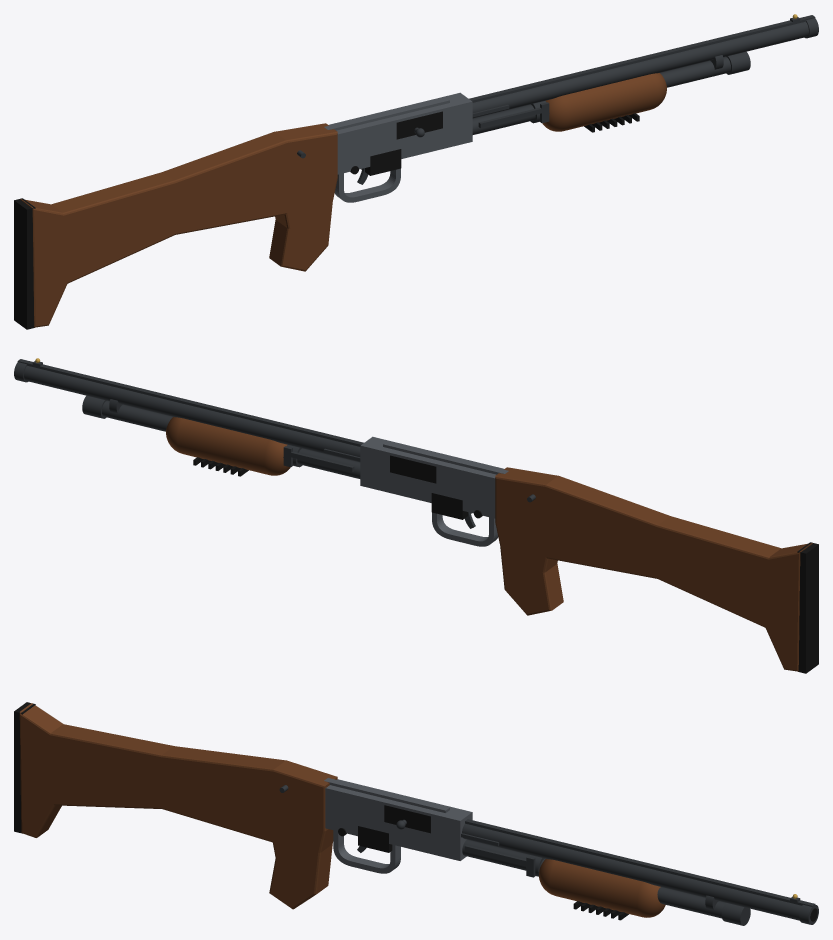
Rendered from fusil-a-pompe.glb.
3 views of the same model, one above another, from view 1: azimuth 30°, elevation 25°; view 2: azimuth 150°, elevation 25°; view 3: azimuth 330°, elevation 25° (orthographic).
Parts seen in each view (by area): view 1: crosse, boitier, canon, garde_main, plaque_de_couche, plaque_rib, tube_magasin, pontet, rail_boitier, fenetre_ejection, fenetre_chargement; view 2: crosse, boitier, canon, garde_main, plaque_de_couche, plaque_rib, tube_magasin, pontet, rail_boitier, fenetre_ejection, fenetre_chargement; view 3: crosse, boitier, canon, garde_main, plaque_rib, tube_magasin, pontet, plaque_de_couche, rail_boitier, fenetre_ejection, fenetre_chargement, bouchon_magasin (+1 smaller).
Part boxes in pixels (left/top/right/bottom): crosse: left=20, top=123, right=337, bottom=327; boitier: left=329, top=92, right=472, bottom=174; canon: left=472, top=21, right=808, bottom=118; garde_main: left=542, top=73, right=666, bottom=131; plaque_de_couche: left=14, top=198, right=35, bottom=329; plaque_rib: left=469, top=15, right=815, bottom=102; tube_magasin: left=472, top=56, right=730, bottom=134; pontet: left=334, top=168, right=400, bottom=202; rail_boitier: left=324, top=97, right=449, bottom=130; fenetre_ejection: left=396, top=111, right=442, bottom=139; fenetre_chargement: left=361, top=149, right=401, bottom=175; crosse: left=495, top=467, right=812, bottom=671; boitier: left=360, top=436, right=503, bottom=518; canon: left=24, top=365, right=360, bottom=462; garde_main: left=166, top=417, right=290, bottom=475; plaque_de_couche: left=797, top=542, right=818, bottom=673; plaque_rib: left=17, top=359, right=363, bottom=446; tube_magasin: left=102, top=400, right=360, bottom=478; pontet: left=432, top=512, right=498, bottom=546; rail_boitier: left=383, top=441, right=508, bottom=474; fenetre_ejection: left=390, top=455, right=436, bottom=483; fenetre_chargement: left=431, top=493, right=471, bottom=519; crosse: left=19, top=703, right=337, bottom=909; boitier: left=325, top=779, right=472, bottom=860; canon: left=462, top=823, right=818, bottom=923; garde_main: left=539, top=859, right=665, bottom=917; plaque_rib: left=465, top=819, right=815, bottom=907; tube_magasin: left=462, top=839, right=725, bottom=918; pontet: left=333, top=830, right=400, bottom=873; plaque_de_couche: left=14, top=702, right=35, bottom=833; rail_boitier: left=324, top=778, right=449, bottom=812; fenetre_ejection: left=384, top=805, right=430, bottom=833; fenetre_chargement: left=358, top=826, right=392, bottom=852; bouchon_magasin: left=721, top=903, right=750, bottom=925.
Size of the model in its own units: 1.28 by 0.2095 by 0.0635.
